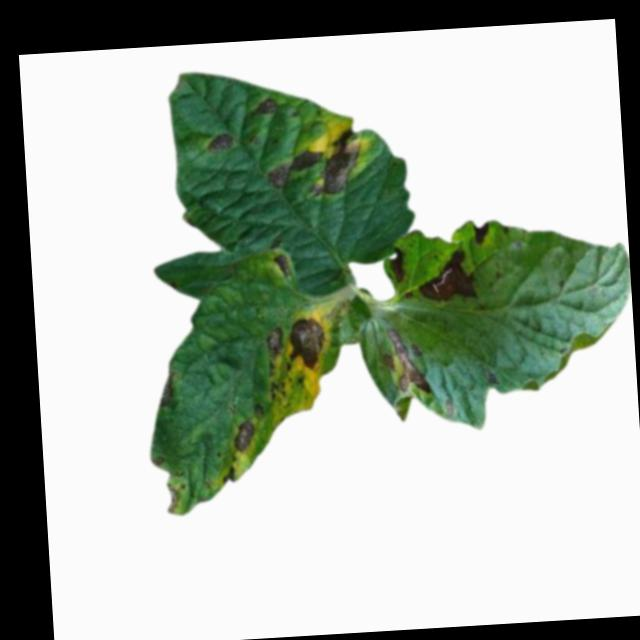Early_blight: (305, 128, 366, 198), (414, 247, 479, 304), (380, 326, 432, 396), (260, 146, 324, 187), (286, 314, 327, 372), (156, 367, 179, 408), (384, 246, 408, 283), (162, 482, 185, 515), (231, 420, 256, 450), (204, 130, 234, 155), (271, 250, 293, 284), (263, 324, 286, 355), (248, 93, 277, 116), (469, 218, 492, 246), (220, 464, 237, 483)
